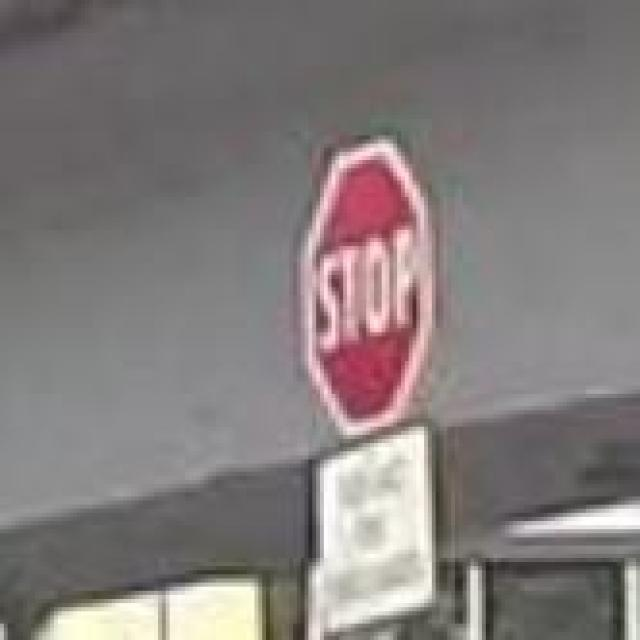traffic sign: (293, 140, 444, 423)
